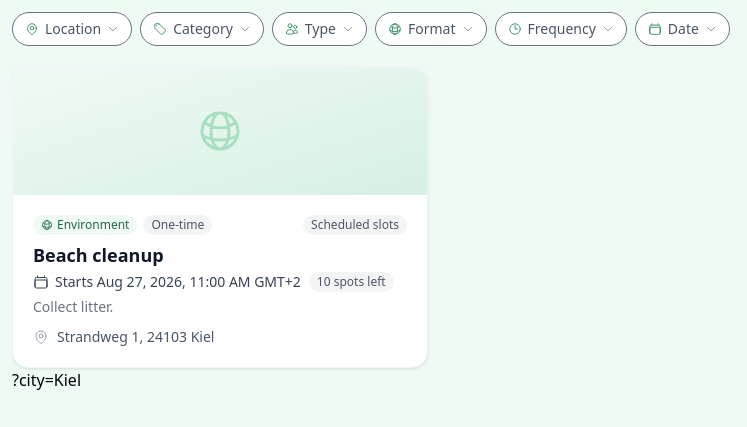
Test: opportunity list with a city-only deep link › does not present a city it could not resolve as an applied filter
The image size is (747, 427).
Note: ...and the panel says why, rather than leaving it unexplained.
Click the button with test id "filter-location". click: {"x": 72, "y": 29}
box: [13,13,131,45]
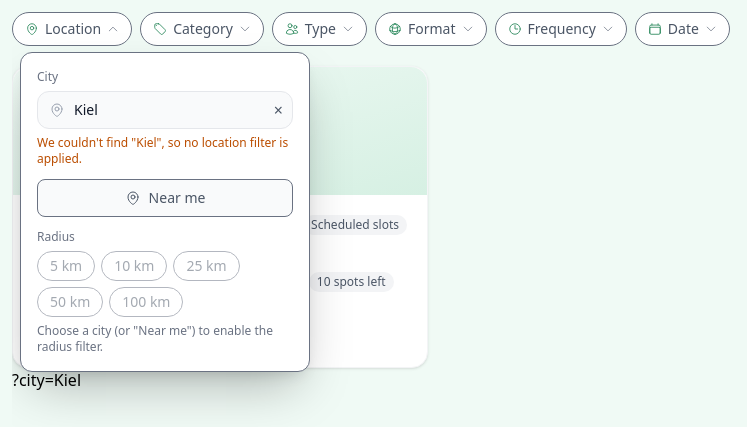
Expected: the message with test id "opportunities-city-unresolved" shows "Kiel", [37,134,288,167]
